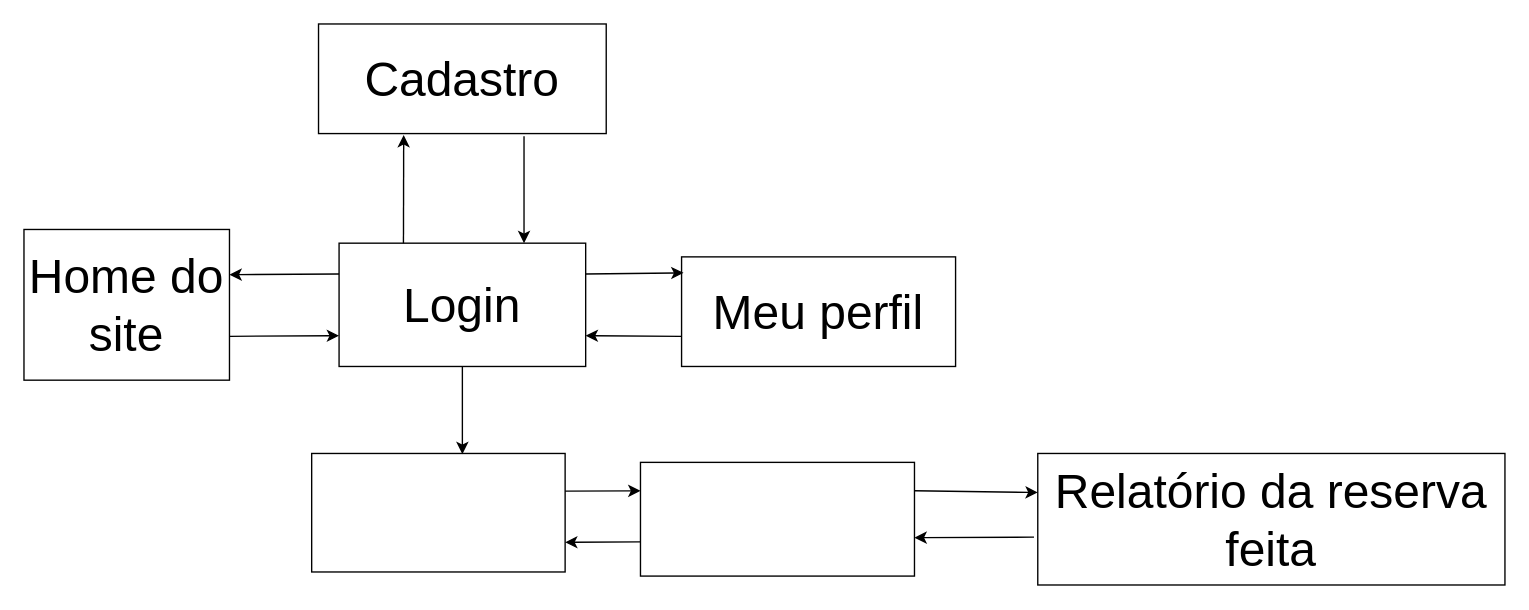
Image size: 1529x610. Some labels were removed from this diagram. The centre of each missing label's shape, as x and y in pixels:
"Pagamento" goes at point 776,518.
"Tela de reserva" goes at point 437,512.
